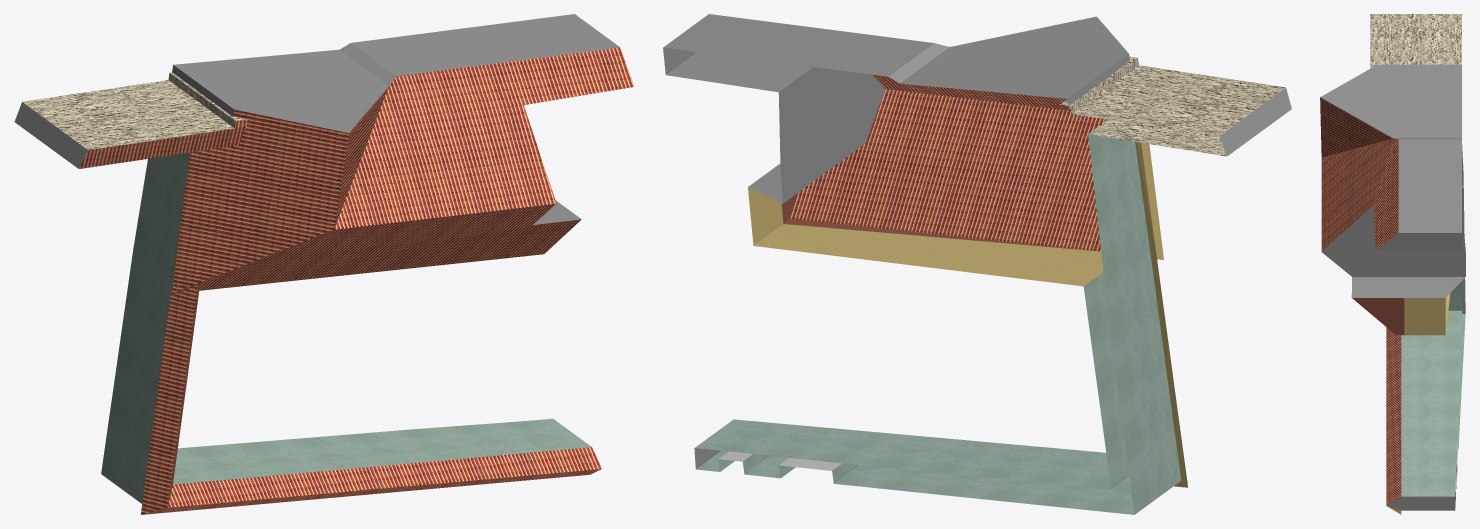
The model's file is Toom-Kooli_15_2.obj.
The picture shows the model from 3 angles, left to right: view 1: azimuth 30°, elevation 25°; view 2: azimuth 150°, elevation 25°; view 3: azimuth 270°, elevation 25°; orthographic projection. The views are drawn at different scales.
Parts seen in each view (by area): view 1: Toom_Kooli_15_2; view 2: Toom_Kooli_15_2; view 3: Toom_Kooli_15_2.
Boxes of the visible parts, <box> form: Toom_Kooli_15_2: <box>14,14,634,514</box>; Toom_Kooli_15_2: <box>663,14,1291,514</box>; Toom_Kooli_15_2: <box>1320,14,1465,514</box>.
Size of the model in its own units: 21.17 by 16.93 by 6.9.
